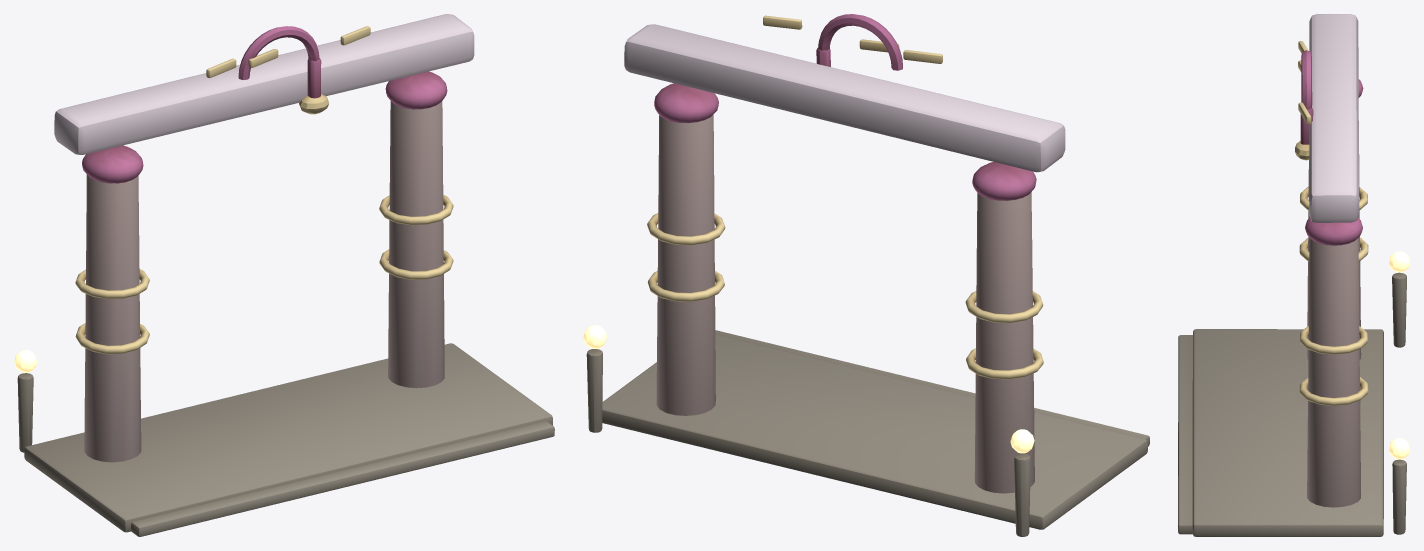
3 renders of one model, left to right at view 1: azimuth 30°, elevation 25°; view 2: azimuth 150°, elevation 25°; view 3: azimuth 270°, elevation 25°, orthographic. The views are drawn at different scales.
Parts seen in each view (by area): view 1: gate_16e90a32; view 2: gate_16e90a32; view 3: gate_16e90a32.
Part boxes in pixels (x1=…): gate_16e90a32: x1=14, y1=14, x2=554, y2=536; gate_16e90a32: x1=583, y1=14, x2=1149, y2=536; gate_16e90a32: x1=1178, y1=14, x2=1409, y2=536.
Bounding box in the file's own units: 5.12 × 4.7 × 2.55.
